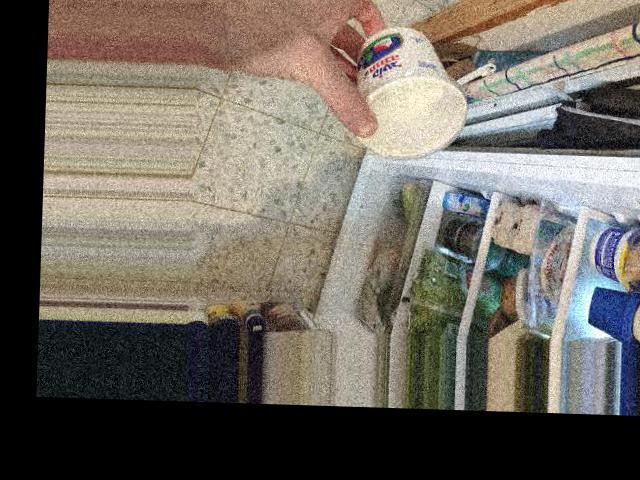cotage: (349, 26, 459, 157)
